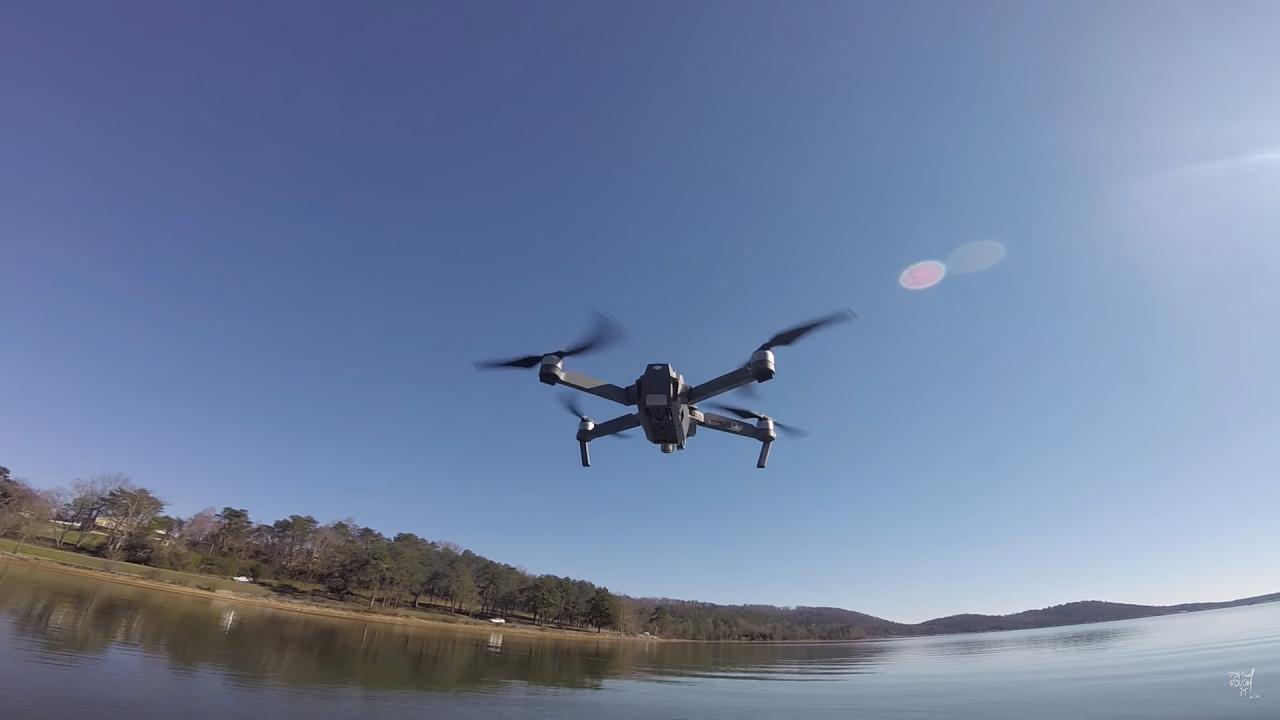Drone: (458, 297, 868, 484)
